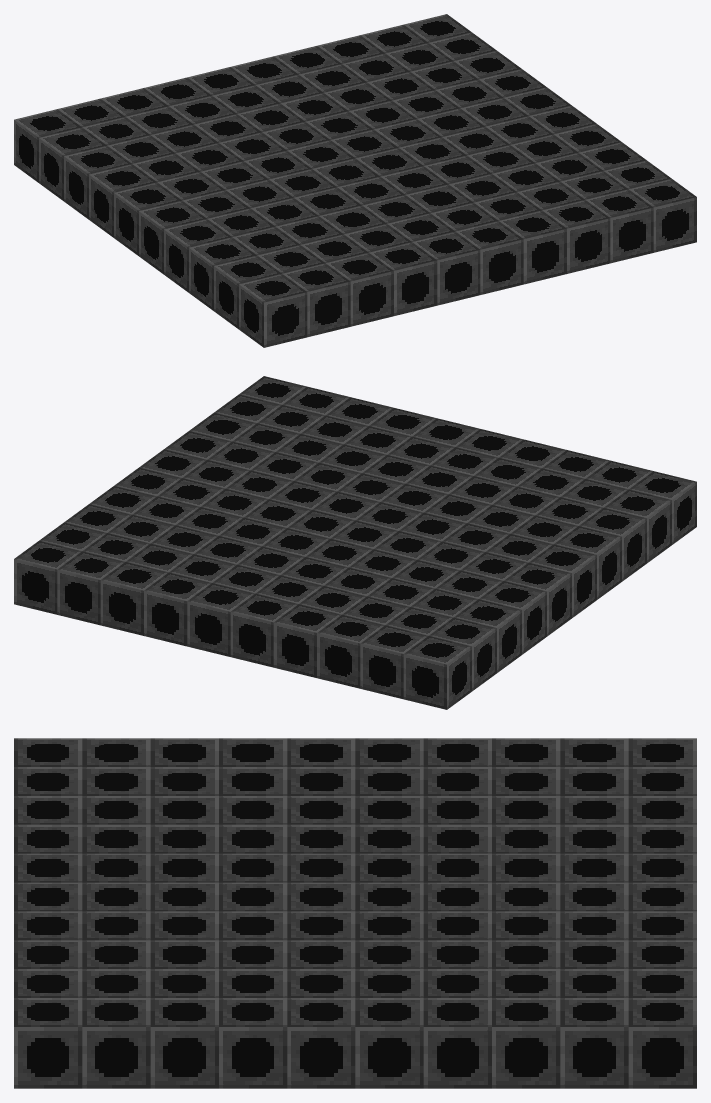
File: platform.glb
3 renders of one model, top to bottom at view 1: azimuth 30°, elevation 25°; view 2: azimuth 150°, elevation 25°; view 3: azimuth 270°, elevation 25°, orthographic. The views are drawn at different scales.
Bounding box in the file's own units: 10 × 1 × 10.
Materials: 1 (1 with a texture image).
